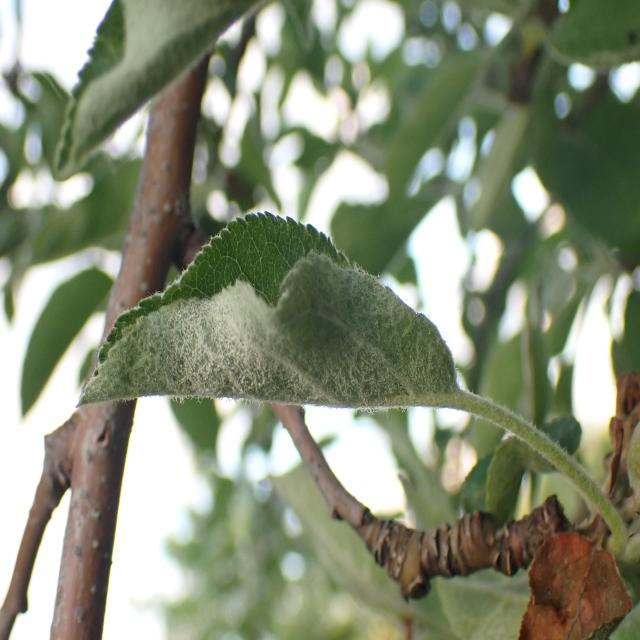Powdery_mildew: (75, 200, 470, 425)
